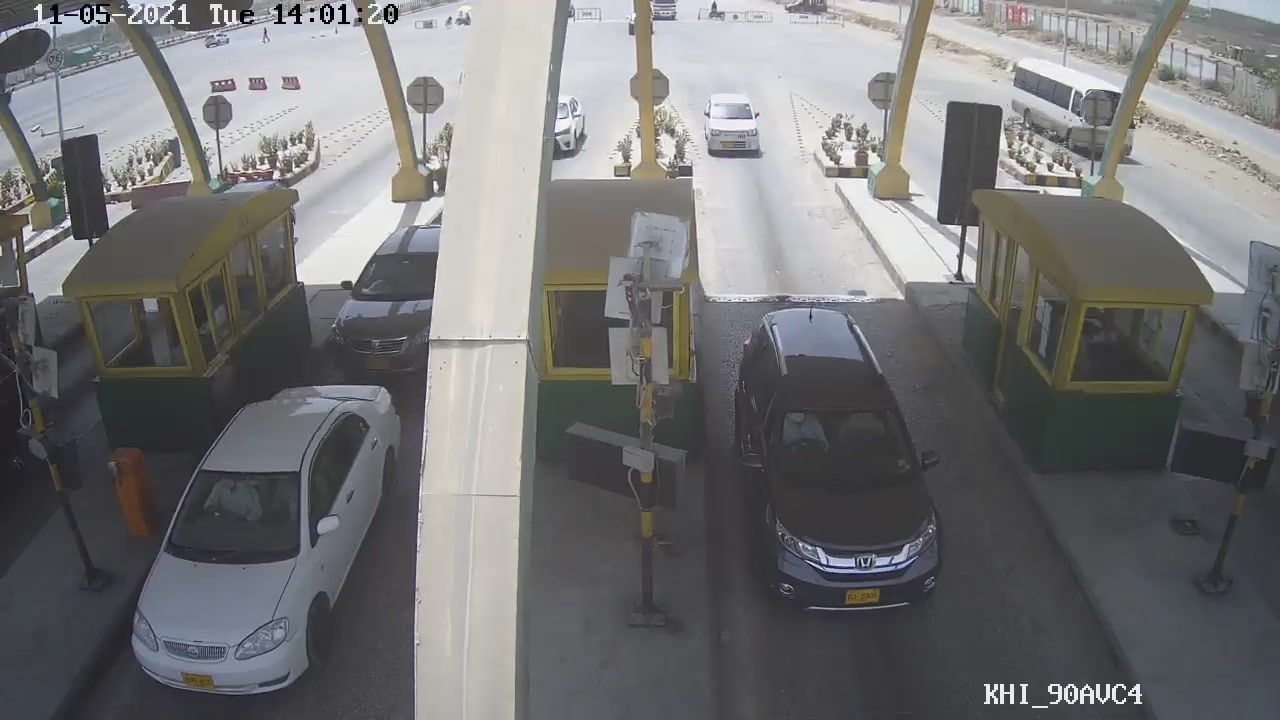F1: (729, 299, 949, 618)
